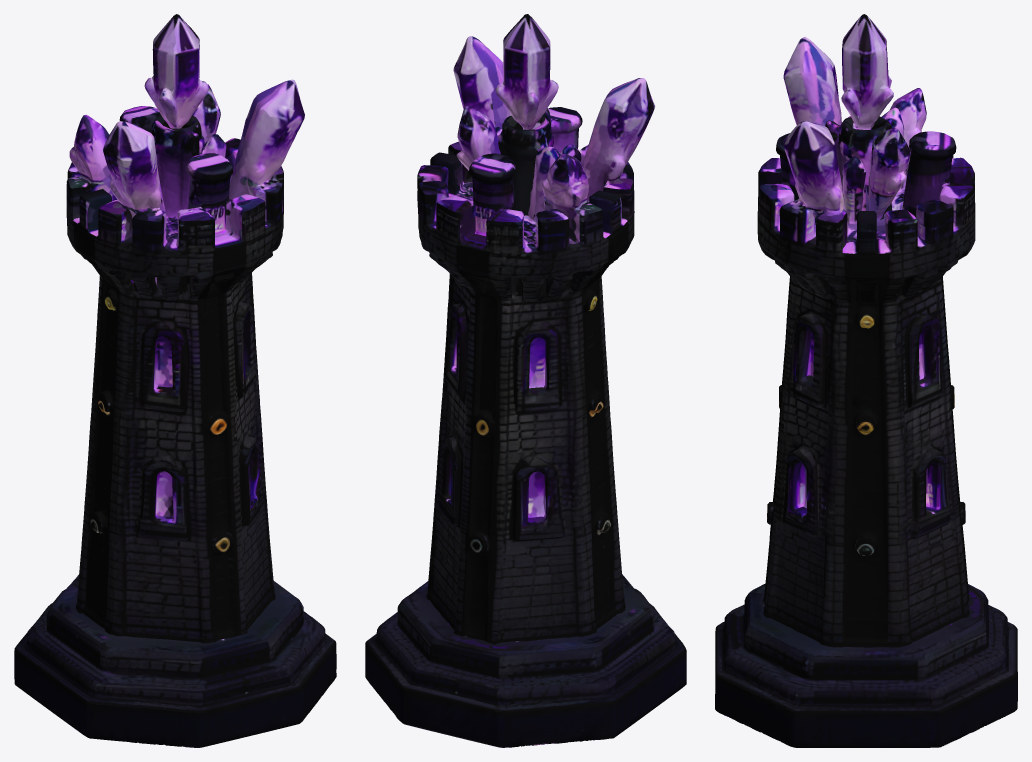
3 views of the same model, side by side, from view 1: azimuth 30°, elevation 25°; view 2: azimuth 150°, elevation 25°; view 3: azimuth 270°, elevation 25° (orthographic).
Parts seen in each view (by area): view 1: textured_mesh; view 2: textured_mesh; view 3: textured_mesh.
Part boxes in pixels (box(x1,y1,x2,y2)): textured_mesh: box(14, 14, 336, 747); textured_mesh: box(365, 14, 686, 747); textured_mesh: box(715, 14, 1017, 747).
Bounding box in the file's own units: 0.7817 × 1.99 × 0.8121.
Materials: 1 (1 with a texture image).
